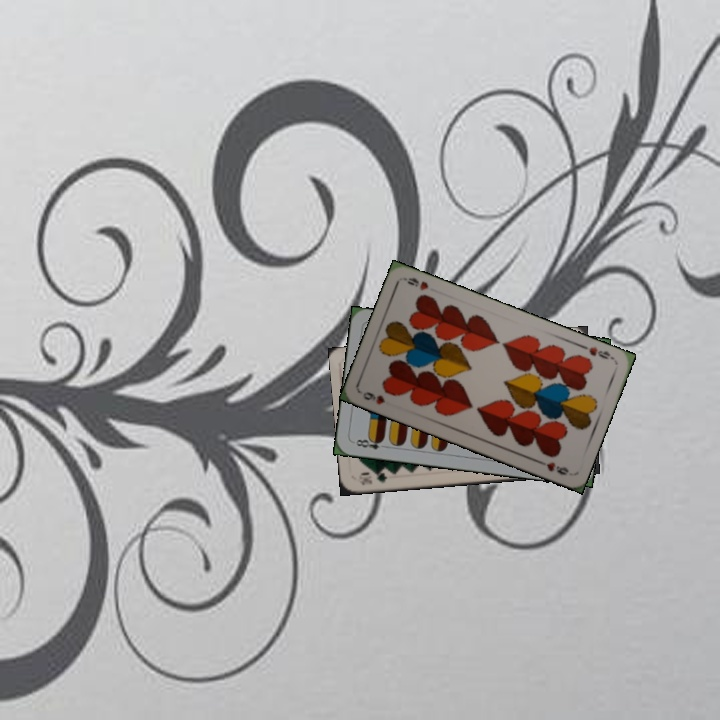E8: (352, 433, 390, 452)
G10: (354, 468, 389, 487)
H9: (578, 341, 617, 362), (359, 387, 387, 407)
